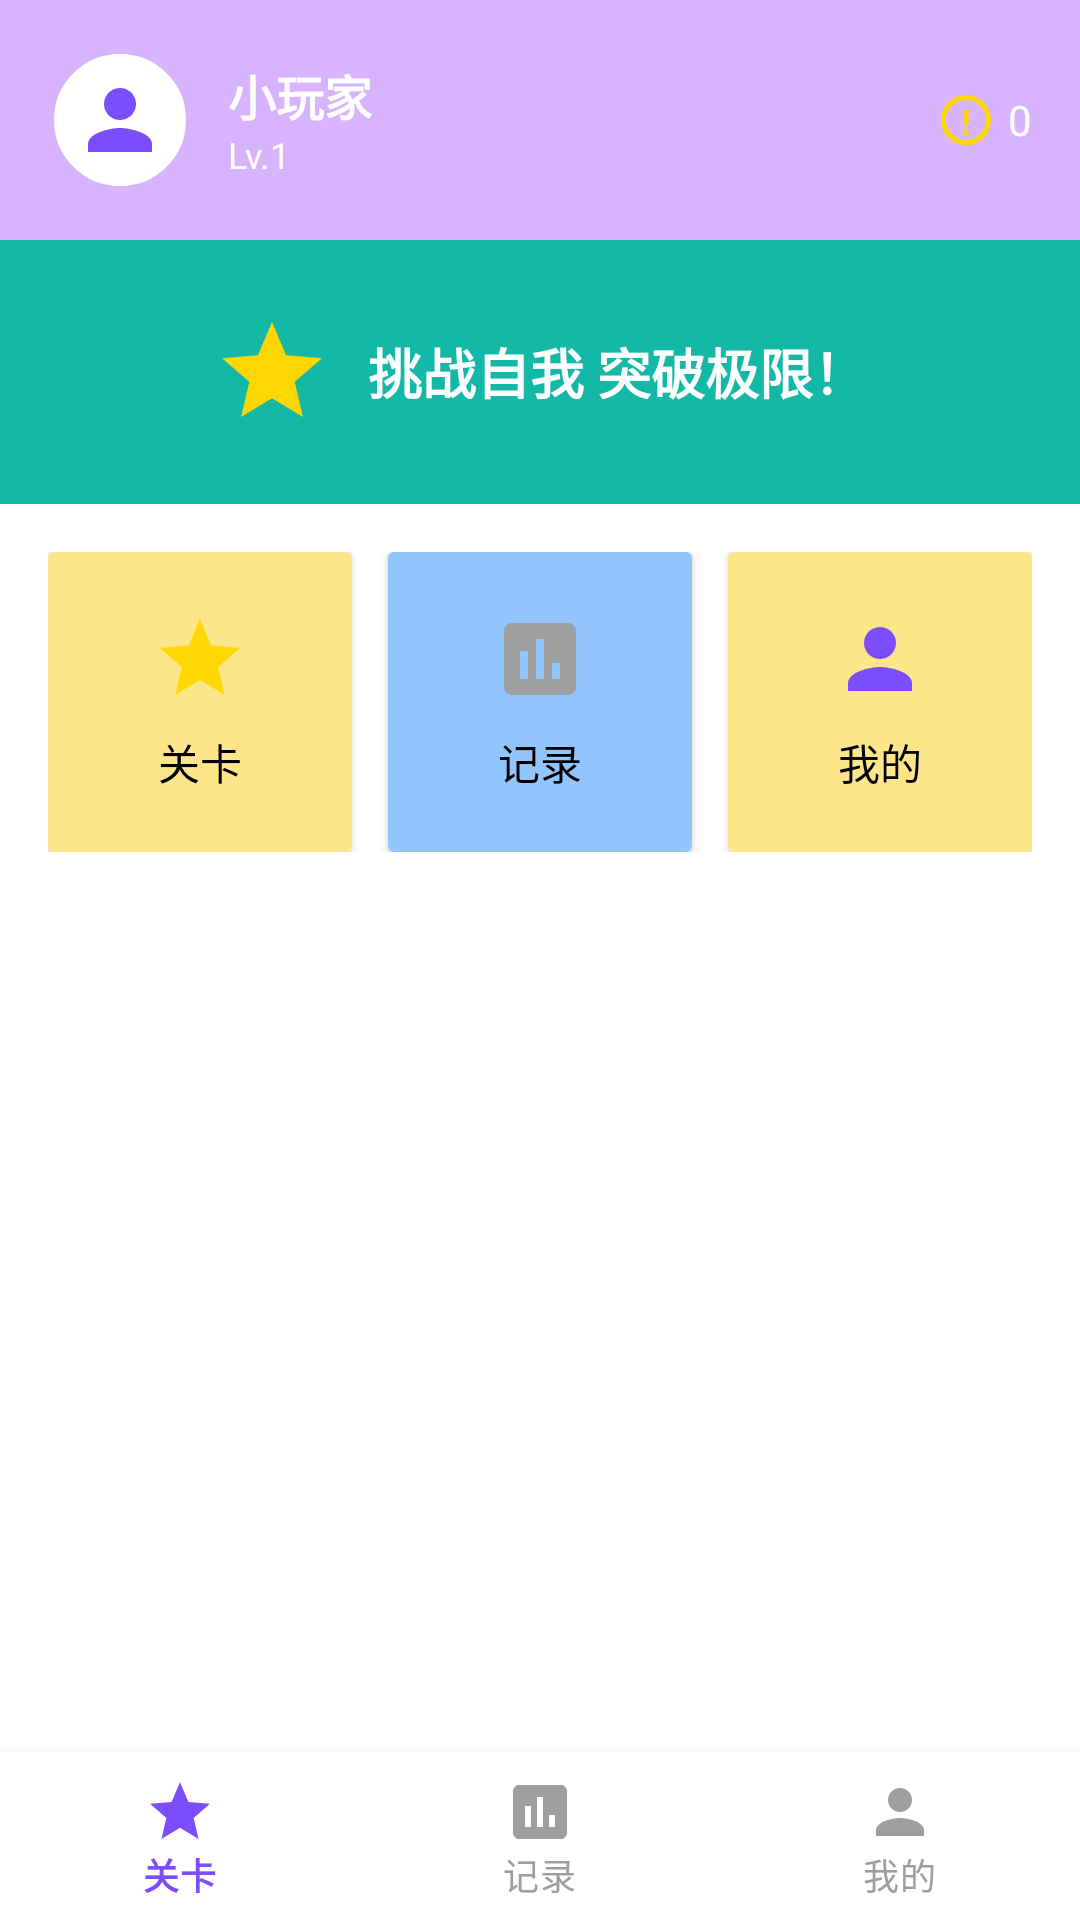

Locate icon controls on the screen. Image size 1080×1920, boxes as BBox(x1, y1, x2, y2).
user: BBox(54, 54, 186, 186), BBox(848, 627, 912, 691)
